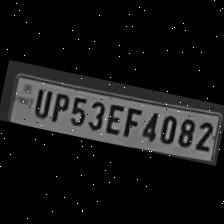0: (155, 110, 179, 144)
2: (190, 116, 216, 152)
3: (84, 95, 107, 131)
4: (138, 105, 162, 141)
5: (64, 90, 90, 127)
8: (173, 112, 197, 148)
E: (100, 97, 125, 136)
F: (118, 102, 143, 138)
P: (46, 87, 71, 124)
U: (28, 83, 53, 119)
